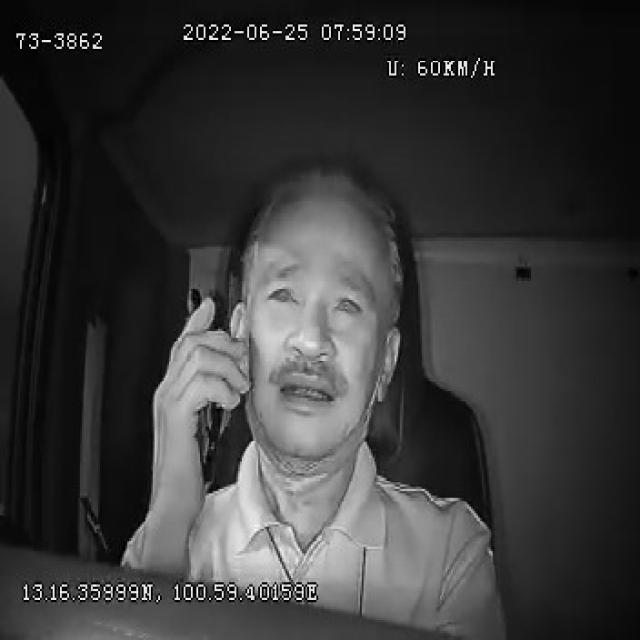phone: (182, 281, 227, 492)
